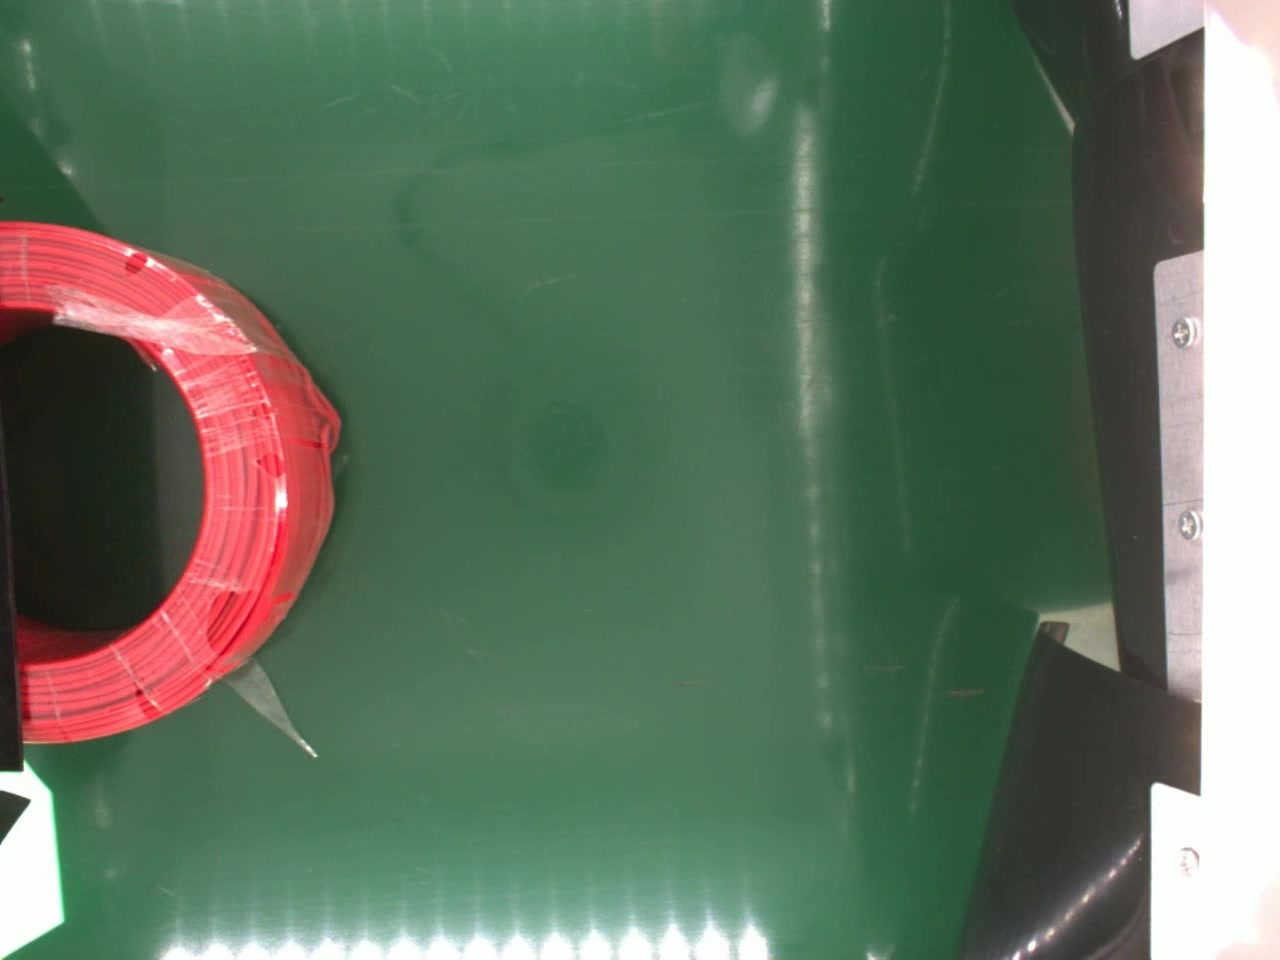red: (0, 217, 344, 749)
